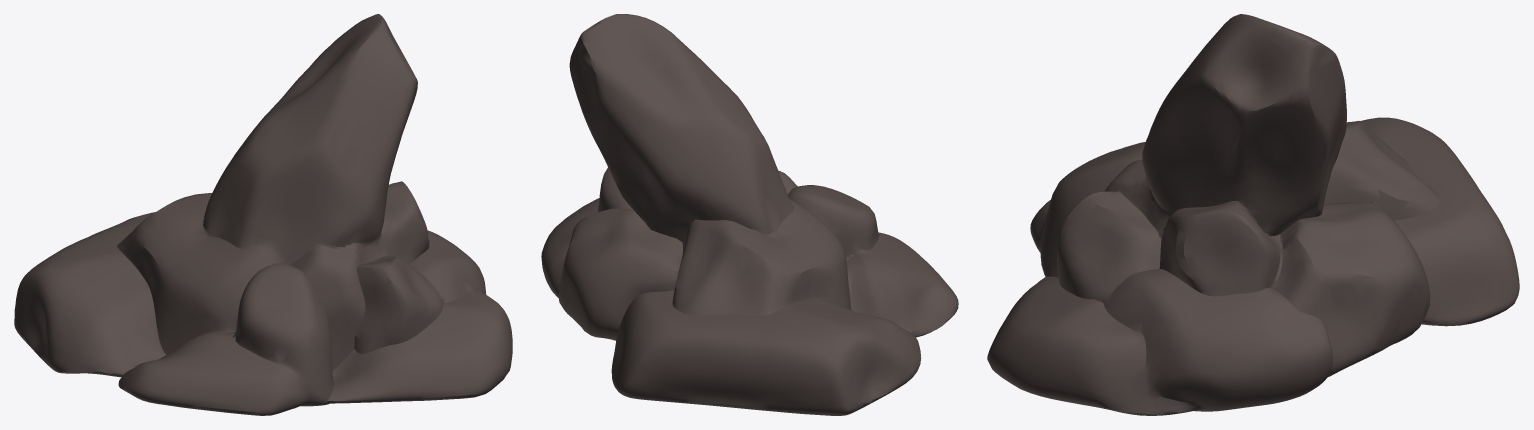
File: Environment_Cliff4.gltf
3 views of the same model, side by side, from view 1: azimuth 30°, elevation 25°; view 2: azimuth 150°, elevation 25°; view 3: azimuth 270°, elevation 25° (orthographic). The views are drawn at different scales.
Visible parts, largest first — view 1: Environment_Cliff4; view 2: Environment_Cliff4; view 3: Environment_Cliff4.
Part boxes in pixels (box(x1,y1,x2,y2)): Environment_Cliff4: box(14, 14, 512, 415); Environment_Cliff4: box(541, 14, 958, 415); Environment_Cliff4: box(987, 14, 1519, 415).
Size of the model in its own units: 7.38 by 5.53 by 7.12.
1 material, 1 textured.
